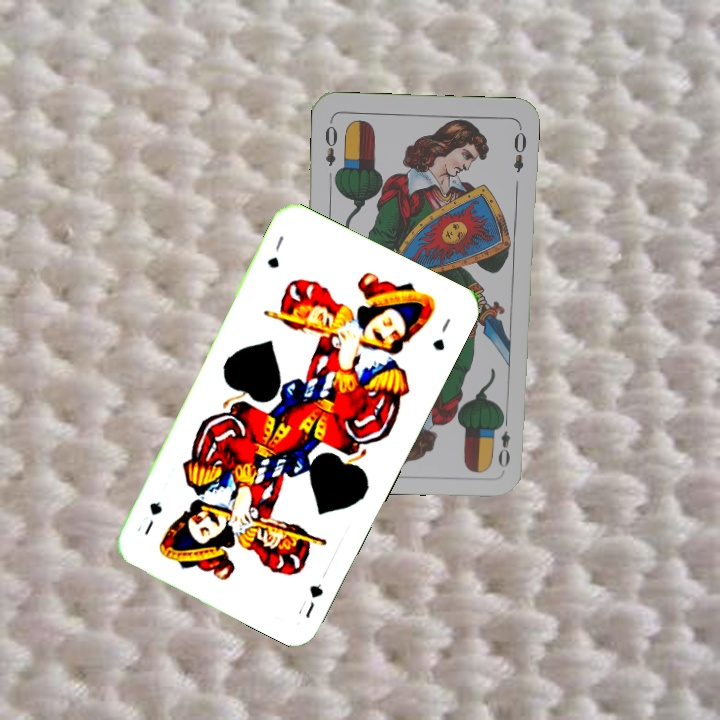EO: (320, 116, 341, 169), (494, 412, 513, 470)
GU: (294, 579, 326, 621), (263, 231, 287, 271)
